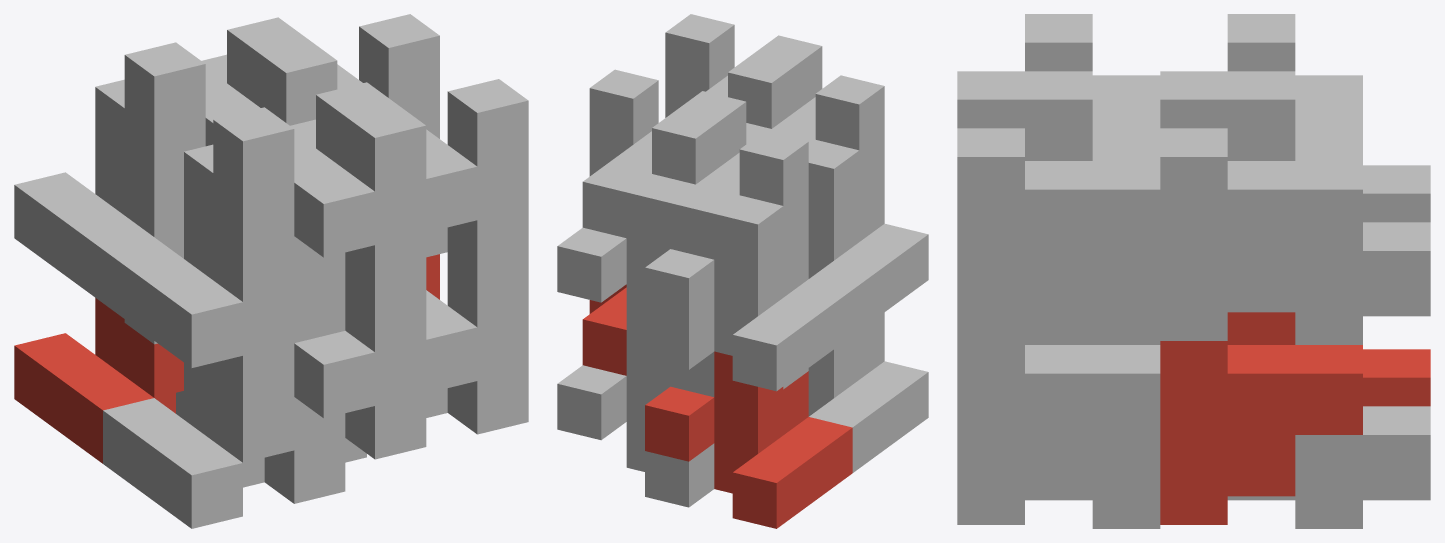
File: tiling.obj
3 renders of one model, left to right at view 1: azimuth 30°, elevation 25°; view 2: azimuth 150°, elevation 25°; view 3: azimuth 270°, elevation 25°, orthographic. The views are drawn at different scales.
Visible parts, largest first — view 1: copy_2_domain_4, copy_2_domain_2, copy_2_domain_8, copy_1_domain_4, copy_1_domain_2, copy_2_domain_3, copy_1_domain_3, copy_2_domain_6, copy_1_domain_1, copy_2_domain_7, copy_1_domain_6, copy_1_domain_8; view 2: copy_1_domain_3, copy_1_domain_1, copy_1_domain_4, copy_2_domain_7, copy_1_domain_7, copy_2_domain_3, copy_1_domain_5, copy_1_domain_2, copy_2_domain_8, copy_2_domain_4, copy_2_domain_5, copy_2_domain_1; view 3: copy_2_domain_8, copy_2_domain_7, copy_2_domain_6, copy_2_domain_5, copy_1_domain_7, copy_1_domain_5, copy_2_domain_3, copy_2_domain_4, copy_1_domain_8, copy_1_domain_6, copy_1_domain_3, copy_1_domain_1 (+1 smaller).
Part boxes in pixels (bbox=[...]): copy_2_domain_4: bbox=[213, 104, 426, 298]; copy_2_domain_2: bbox=[213, 277, 426, 459]; copy_2_domain_8: bbox=[316, 79, 528, 273]; copy_1_domain_4: bbox=[103, 144, 294, 367]; copy_1_domain_2: bbox=[103, 363, 294, 528]; copy_2_domain_3: bbox=[124, 39, 337, 183]; copy_1_domain_3: bbox=[14, 79, 183, 302]; copy_2_domain_6: bbox=[426, 252, 528, 434]; copy_1_domain_1: bbox=[14, 298, 183, 463]; copy_2_domain_7: bbox=[227, 14, 439, 138]; copy_1_domain_6: bbox=[264, 438, 366, 503]; copy_1_domain_8: bbox=[290, 119, 345, 342]; copy_1_domain_3: bbox=[645, 195, 852, 391]; copy_1_domain_1: bbox=[645, 351, 852, 528]; copy_1_domain_4: bbox=[808, 139, 928, 335]; copy_2_domain_7: bbox=[582, 69, 720, 238]; copy_1_domain_7: bbox=[557, 174, 714, 369]; copy_2_domain_3: bbox=[670, 91, 808, 259]; copy_1_domain_5: bbox=[557, 330, 714, 507]; copy_1_domain_2: bbox=[808, 315, 928, 472]; copy_2_domain_8: bbox=[665, 14, 796, 128]; copy_2_domain_4: bbox=[753, 35, 884, 195]; copy_2_domain_5: bbox=[582, 284, 626, 375]; copy_2_domain_1: bbox=[670, 352, 808, 396]; copy_2_domain_8: bbox=[957, 71, 1160, 340]; copy_2_domain_7: bbox=[1160, 71, 1362, 340]; copy_2_domain_6: bbox=[957, 312, 1160, 524]; copy_2_domain_5: bbox=[1160, 312, 1362, 524]; copy_1_domain_7: bbox=[1295, 132, 1430, 344]; copy_1_domain_5: bbox=[1227, 406, 1430, 528]; copy_2_domain_3: bbox=[1160, 14, 1362, 132]; copy_2_domain_4: bbox=[957, 14, 1160, 132]; copy_1_domain_8: bbox=[1092, 132, 1160, 344]; copy_1_domain_6: bbox=[1025, 435, 1160, 528]; copy_1_domain_3: bbox=[1295, 75, 1430, 222]; copy_1_domain_1: bbox=[1363, 349, 1430, 406].
Bounding box in the file's own units: 6 × 7 × 7.
